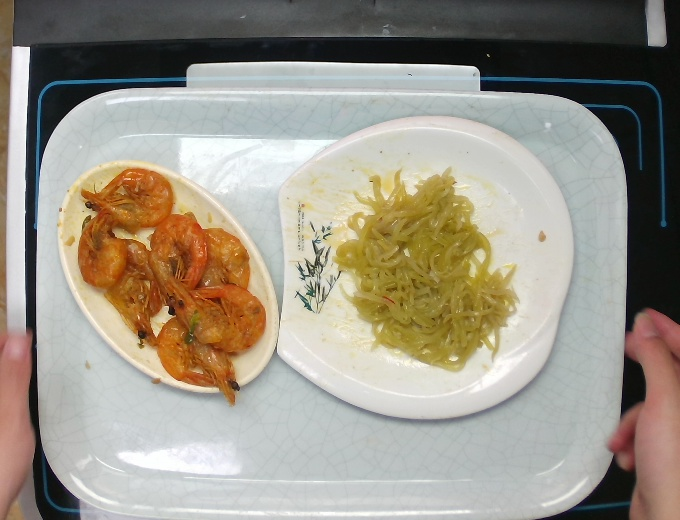JYsf-Mian_Pan: (275, 112, 576, 424)
JYsf-Tuo_Yuan_Wan: (55, 156, 282, 397)
